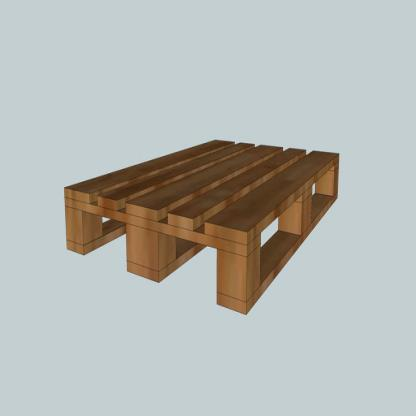BoxFace: (62, 140, 340, 323)
